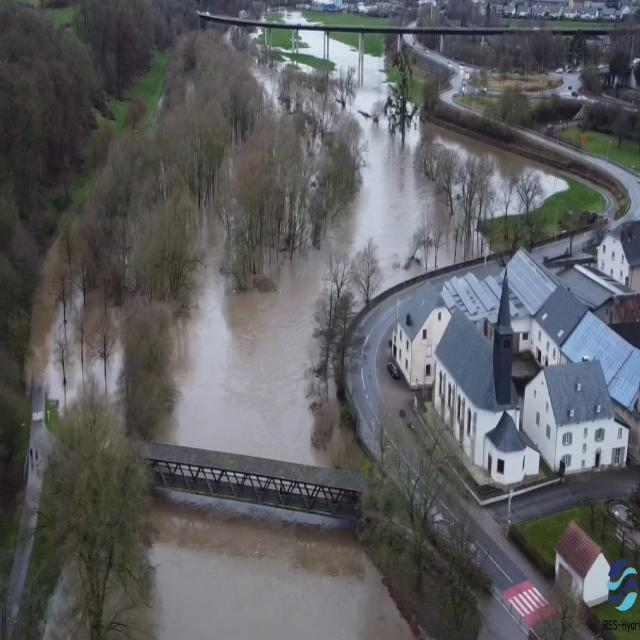flood: (159, 112, 563, 466), (149, 491, 416, 640), (353, 54, 388, 112), (331, 39, 358, 70), (304, 33, 322, 50)
house: (526, 351, 634, 484), (433, 310, 501, 450), (395, 284, 440, 398), (558, 520, 609, 614), (529, 289, 588, 363), (504, 244, 563, 312), (597, 219, 640, 284)
